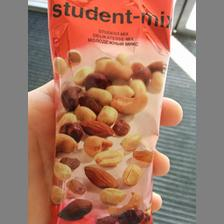Nuss: (46, 0, 176, 224)
